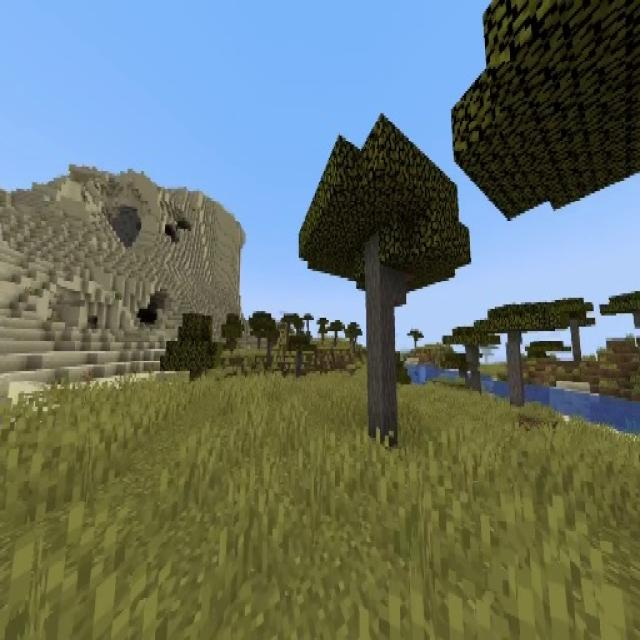acacia: (298, 112, 471, 445), (478, 297, 565, 408), (440, 320, 500, 396)
acacia_log: (364, 241, 397, 444), (507, 334, 522, 405)
